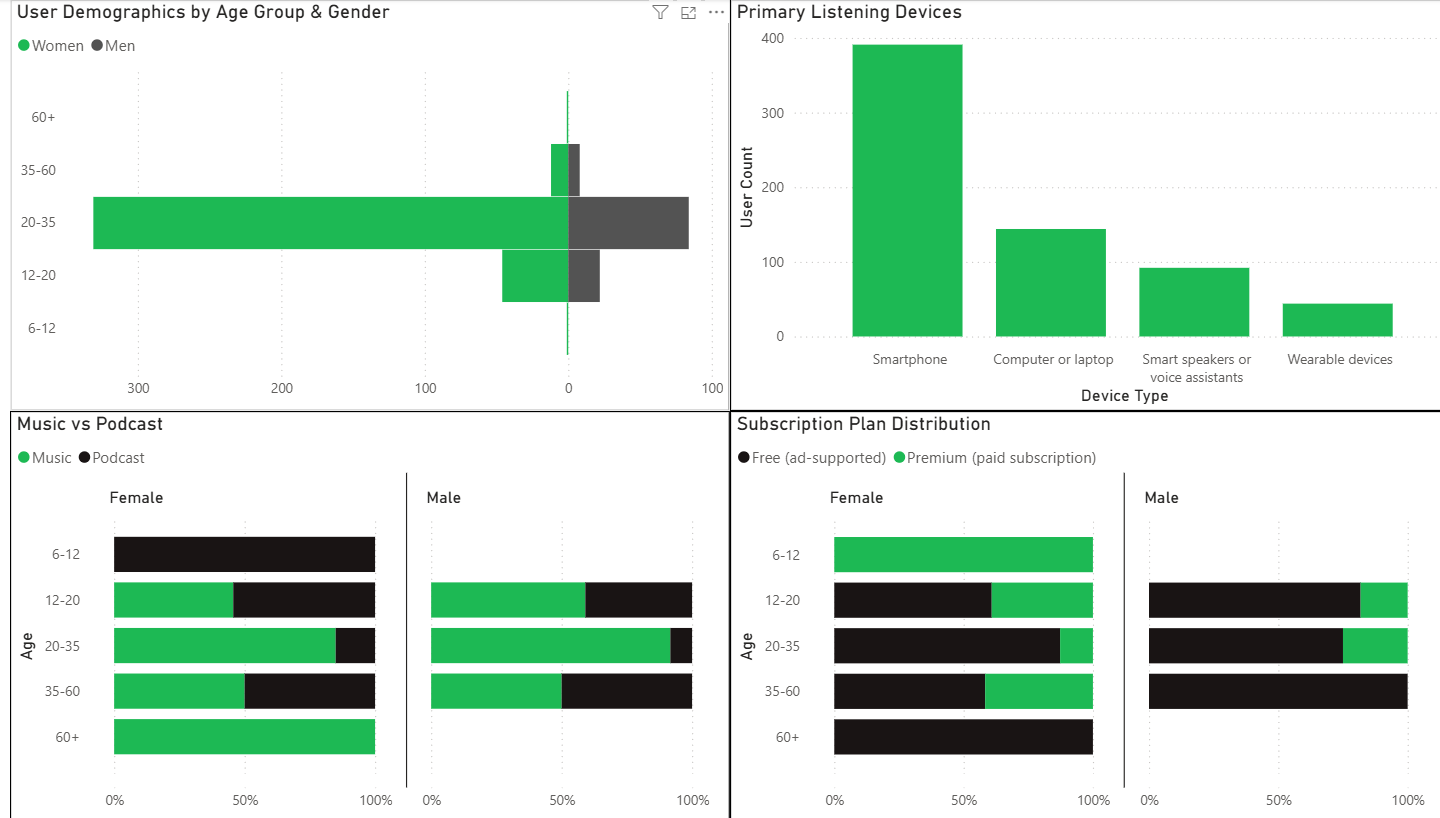

What the dashboard file says about the page in this screenshot:
{"tool":"powerbi","page":{"name":"Overview","canvas":[1280,720],"ordinal":0},"visuals":[{"type":"clusteredBarChart","title":"User Demographics by Age Group & Gender","fields":{"Category":["Sheet1.Age"],"Y":["Sheet1.Count_women","Sheet1.Count_men"]},"box":[11.5,0,629.2,359.9],"z":1},{"type":"columnChart","title":"Primary Listening Devices","fields":{"Y":["CountNonNull(Appareils_spotify.spotify_listening_device)"],"Category":["Appareils_spotify.spotify_listening_device"]},"box":[640.6,0,639.4,359.9],"z":2},{"type":"hundredPercentStackedBarChart","title":"Music vs Podcast","fields":{"Category":["Sheet1.Age"],"Series":["Sheet1.preferred_listening_content"],"Y":["Sheet1.Total_users"],"Rows":["Sheet1.Gender"]},"box":[11.5,359.9,629.2,359.9],"z":3},{"type":"hundredPercentStackedBarChart","title":"Subscription Plan Distribution","fields":{"Category":["Sheet1.Age"],"Series":["Sheet1.spotify_subscription_plan"],"Y":["Sheet1.Total_users"],"Rows":["Sheet1.Gender"]},"box":[640.6,359.9,639.4,359.9],"z":4}]}

Visuals, with their boxes in screenshot pixels (x1, y1, x2, y2), scaled from the page's 1280x720 canvas onto the 1440x818 screenshot:
"User Demographics by Age Group & Gender" clusteredBarChart: 13:0:721:409
"Primary Listening Devices" columnChart: 721:0:1439:409
"Music vs Podcast" hundredPercentStackedBarChart: 13:409:721:817
"Subscription Plan Distribution" hundredPercentStackedBarChart: 721:409:1439:817
